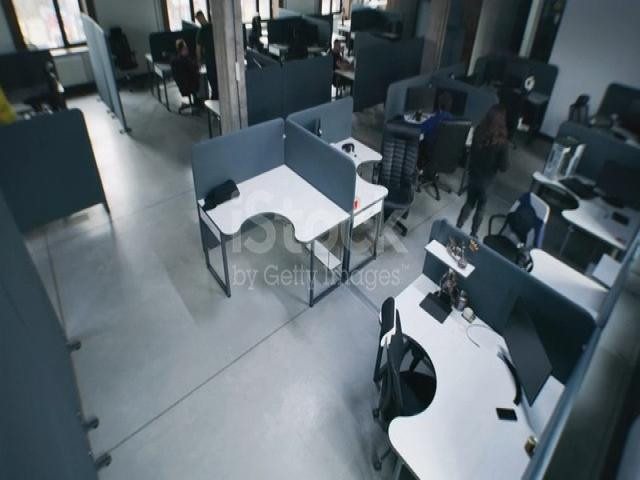empty chair: (370, 285, 434, 457), (488, 174, 546, 282), (376, 121, 420, 227), (564, 68, 622, 137), (104, 16, 146, 96), (501, 74, 534, 147), (41, 53, 74, 109)
occupiedchair: (167, 26, 211, 128), (426, 74, 461, 194), (326, 18, 366, 113)
